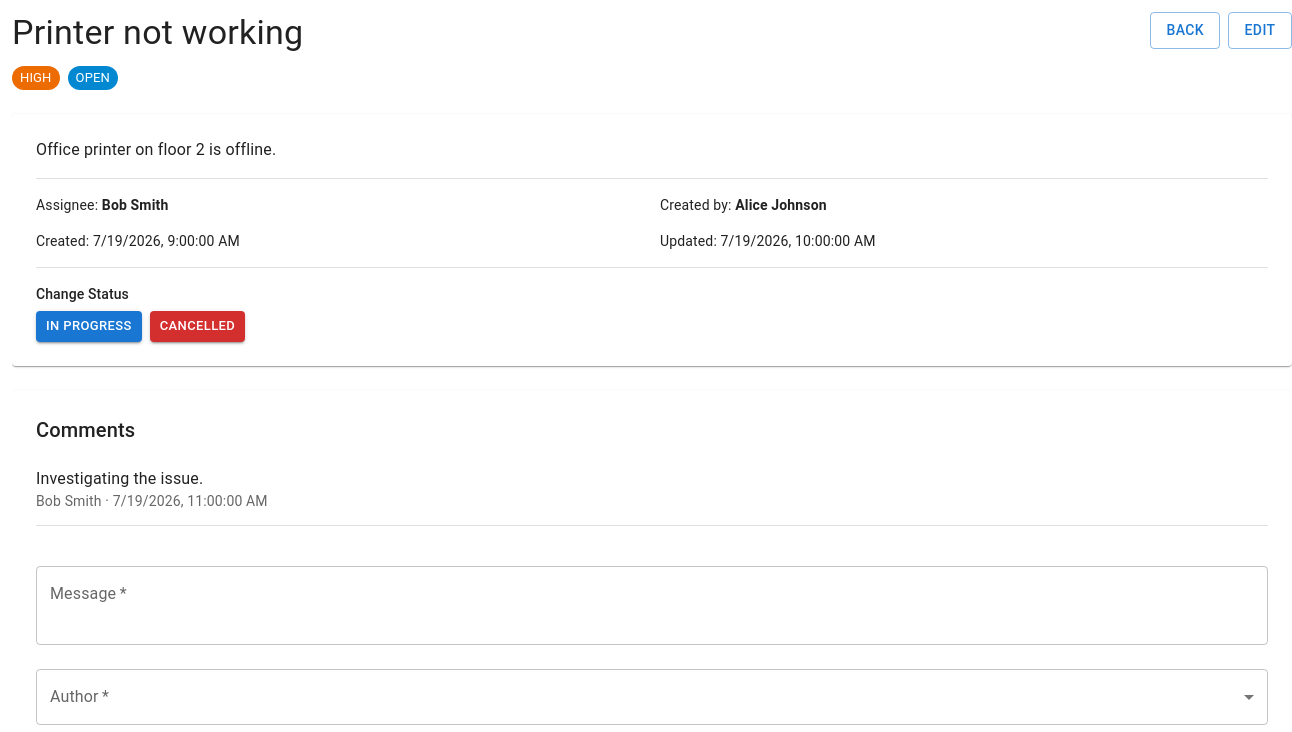
Test: TicketDetailPage › updates ticket status when an allowed button is clicked
The width and height of the screenshot is (1292, 732).
What coordinates should you click on to do the following:
click the button "IN PROGRESS"
I would click on:
 (89, 326)
Its box is top-left (36, 311), bottom-right (142, 342).
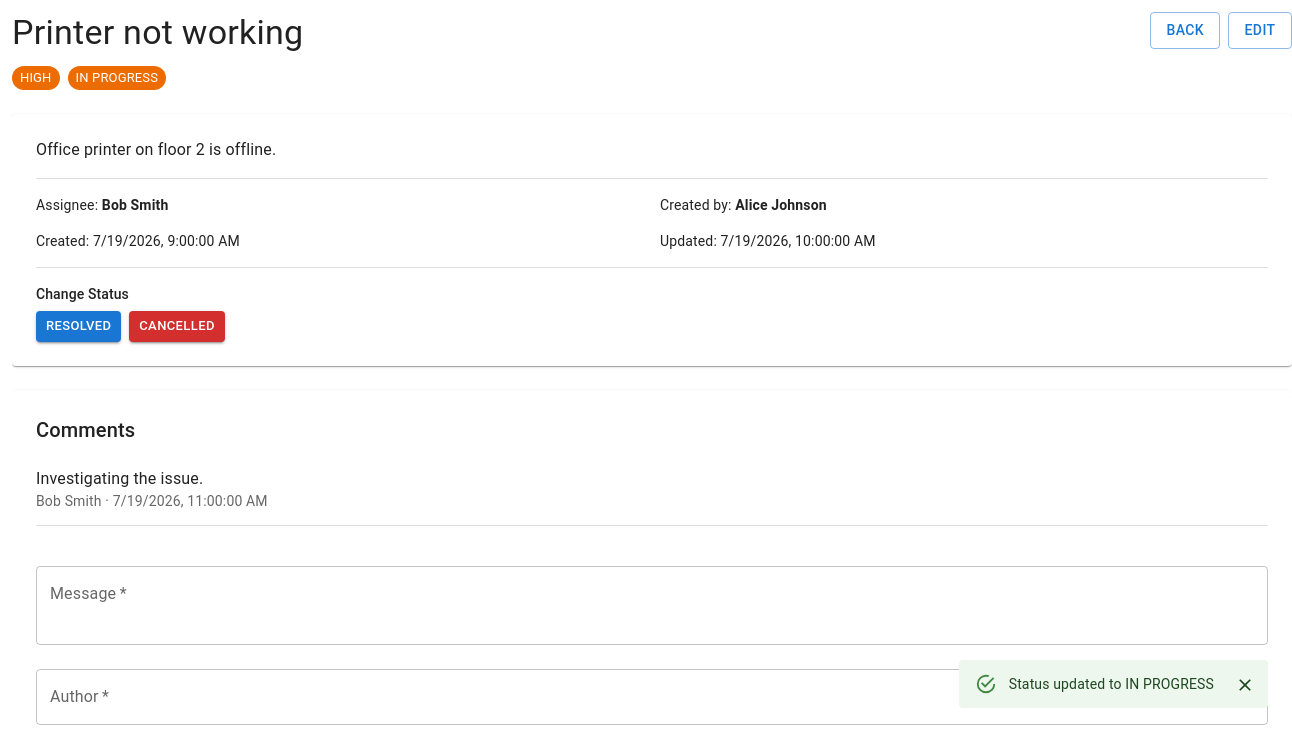
Expected: the text "Status updated to IN PROGRESS" is shown, top-left (1009, 676), bottom-right (1214, 692)
